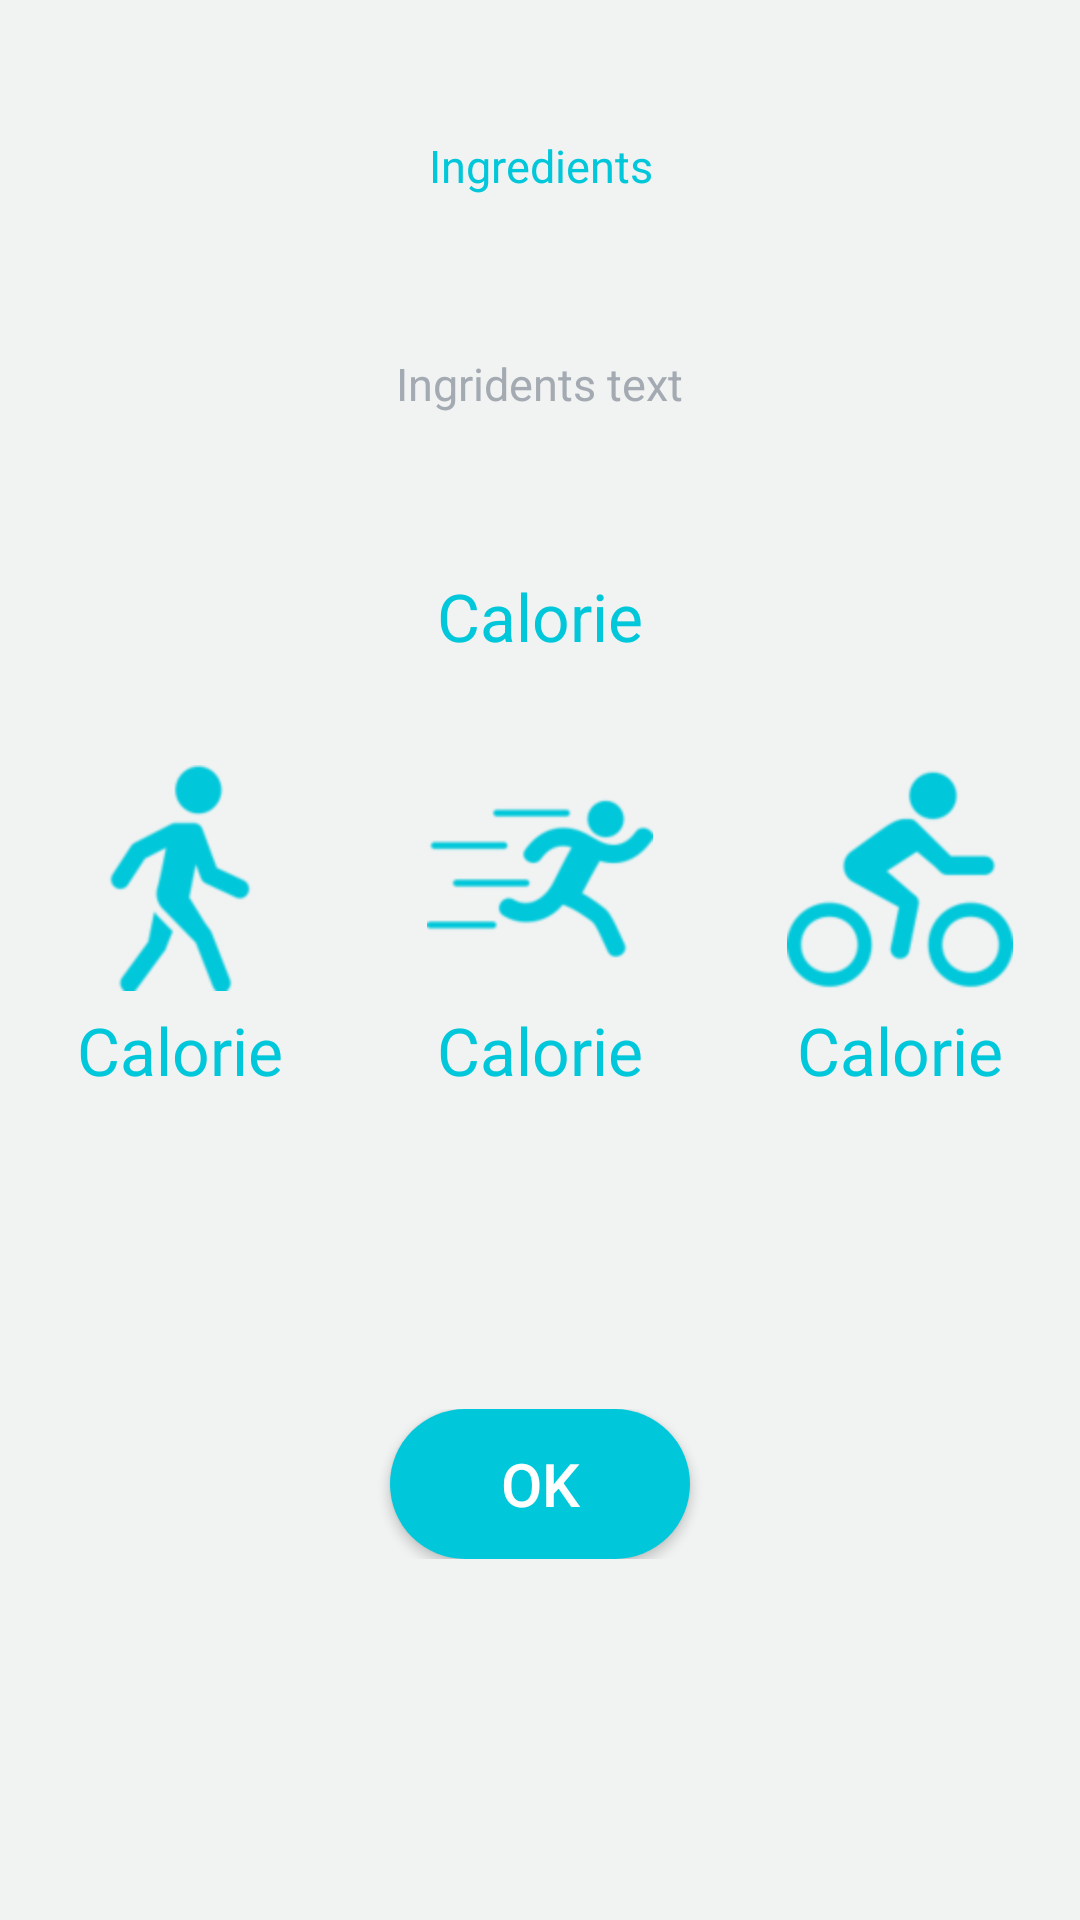

Named icons in this screenshot (1080 x 1920) and their bounding boxes, (x1, y1, x2, y2):
bicycle: (787, 771, 1013, 988)
running: (427, 800, 653, 958)
walk: (110, 765, 251, 991)
